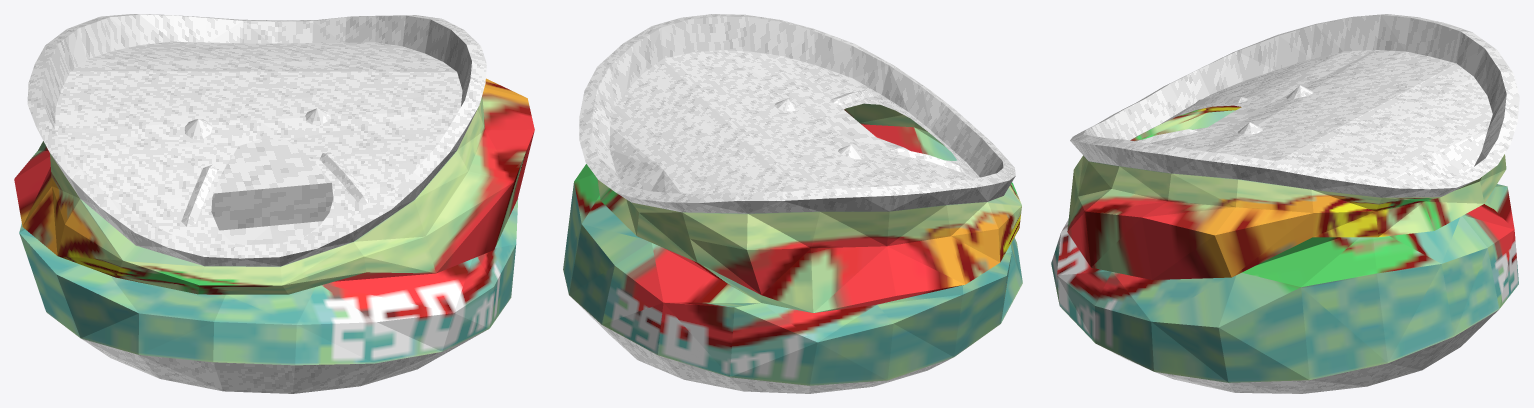
The model's file is dust_kan_futa_b_silver.dae.
3 views of the same model, side by side, from view 1: azimuth 30°, elevation 25°; view 2: azimuth 150°, elevation 25°; view 3: azimuth 270°, elevation 25° (orthographic). The views are drawn at different scales.
Parts seen in each view (by area): view 1: m1, m0; view 2: m0, m1; view 3: m0, m1.
Part boxes in pixels (x1,y1,x2,y2): m1: (27, 14, 488, 393); m0: (14, 78, 534, 365); m0: (563, 103, 1022, 385); m1: (570, 14, 1015, 393); m0: (1051, 105, 1518, 382); m1: (1070, 14, 1519, 393).
Size of the model in its own units: 69.87 by 37.09 by 67.04.
Materials: 2 (2 with a texture image).
